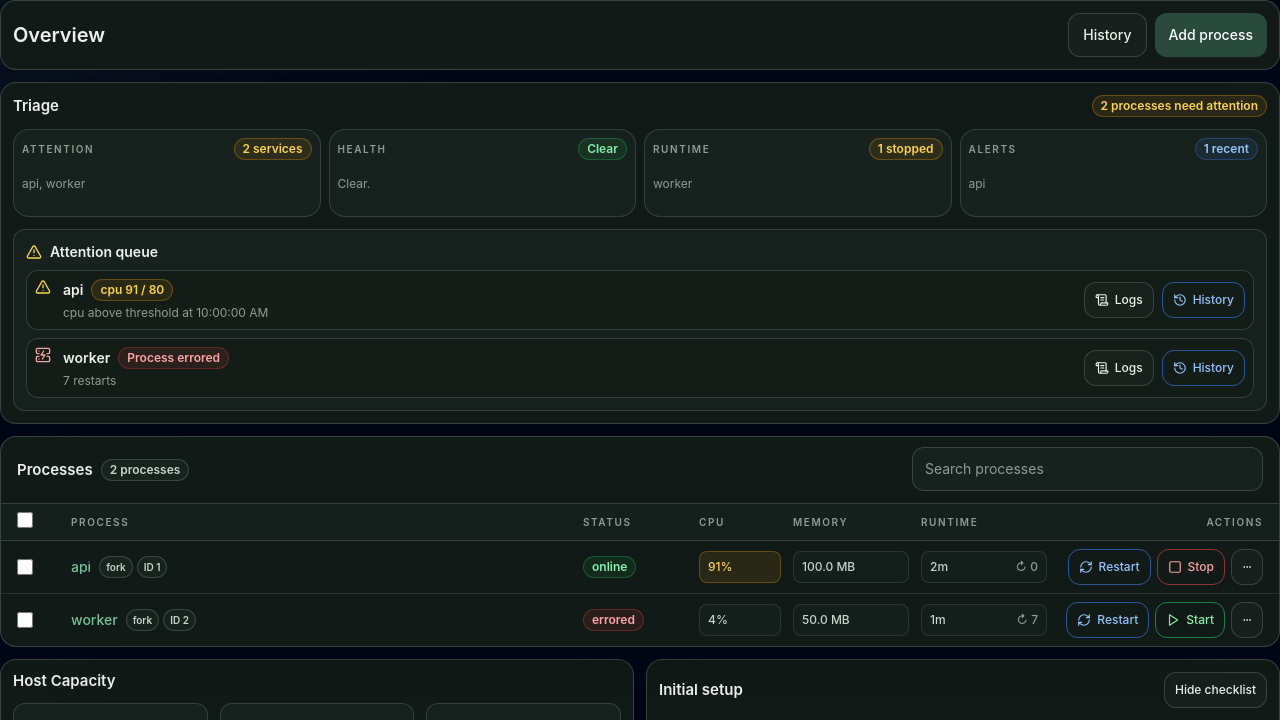
Overview accessible names › names the controls the row menu opens
Expected: the heading "Triage" is shown, left=13, top=97, right=59, bottom=115
Click the button named "More actions for api".
click(1247, 567)  # box left=1231, top=549, right=1263, bottom=585
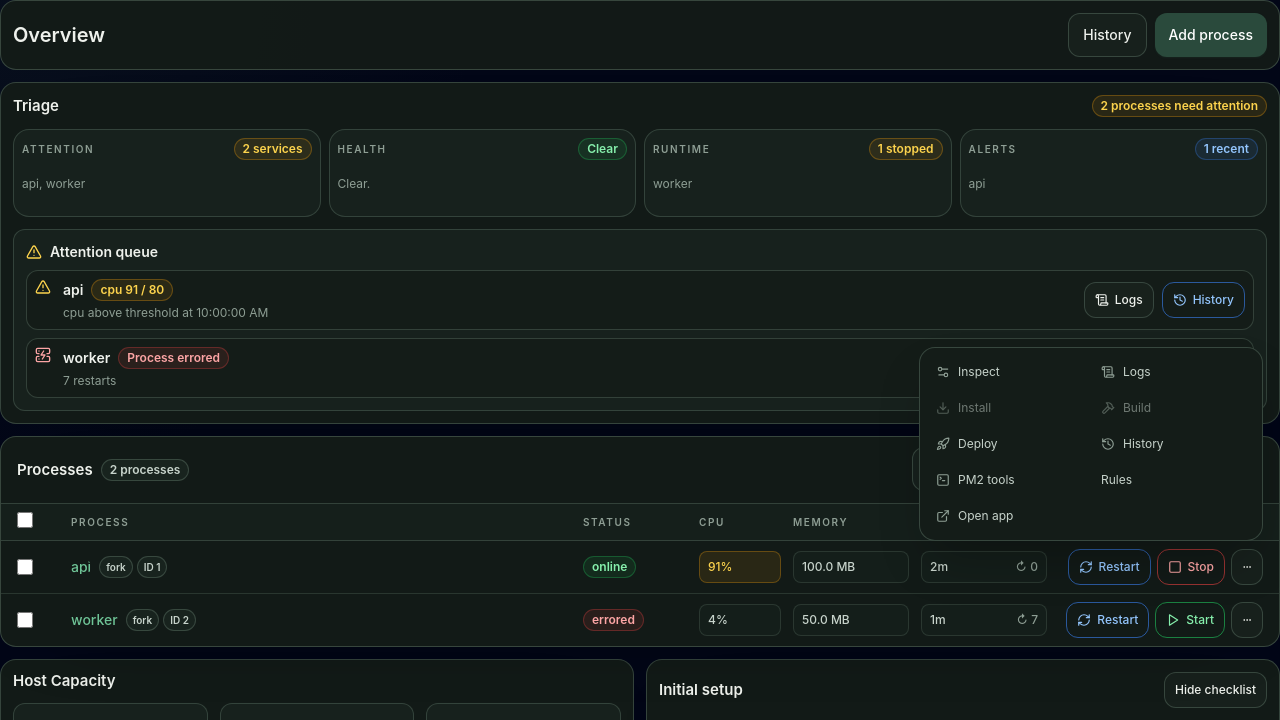
Result: the element that starts with "Inspect" is shown at left=919, top=347, right=1263, bottom=541
